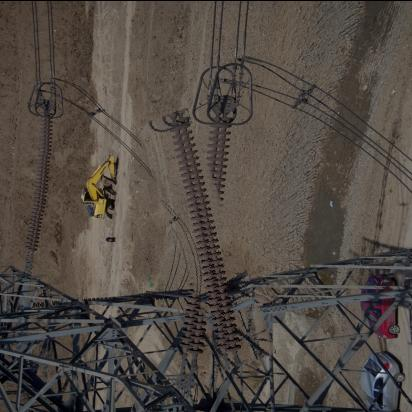insulator: (158, 109, 257, 371), (25, 107, 54, 261)
